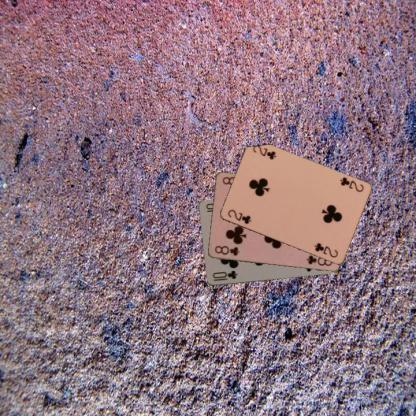10c: (210, 268, 238, 282)
2c: (337, 174, 364, 193), (225, 207, 252, 225)
8c: (212, 243, 240, 257)
